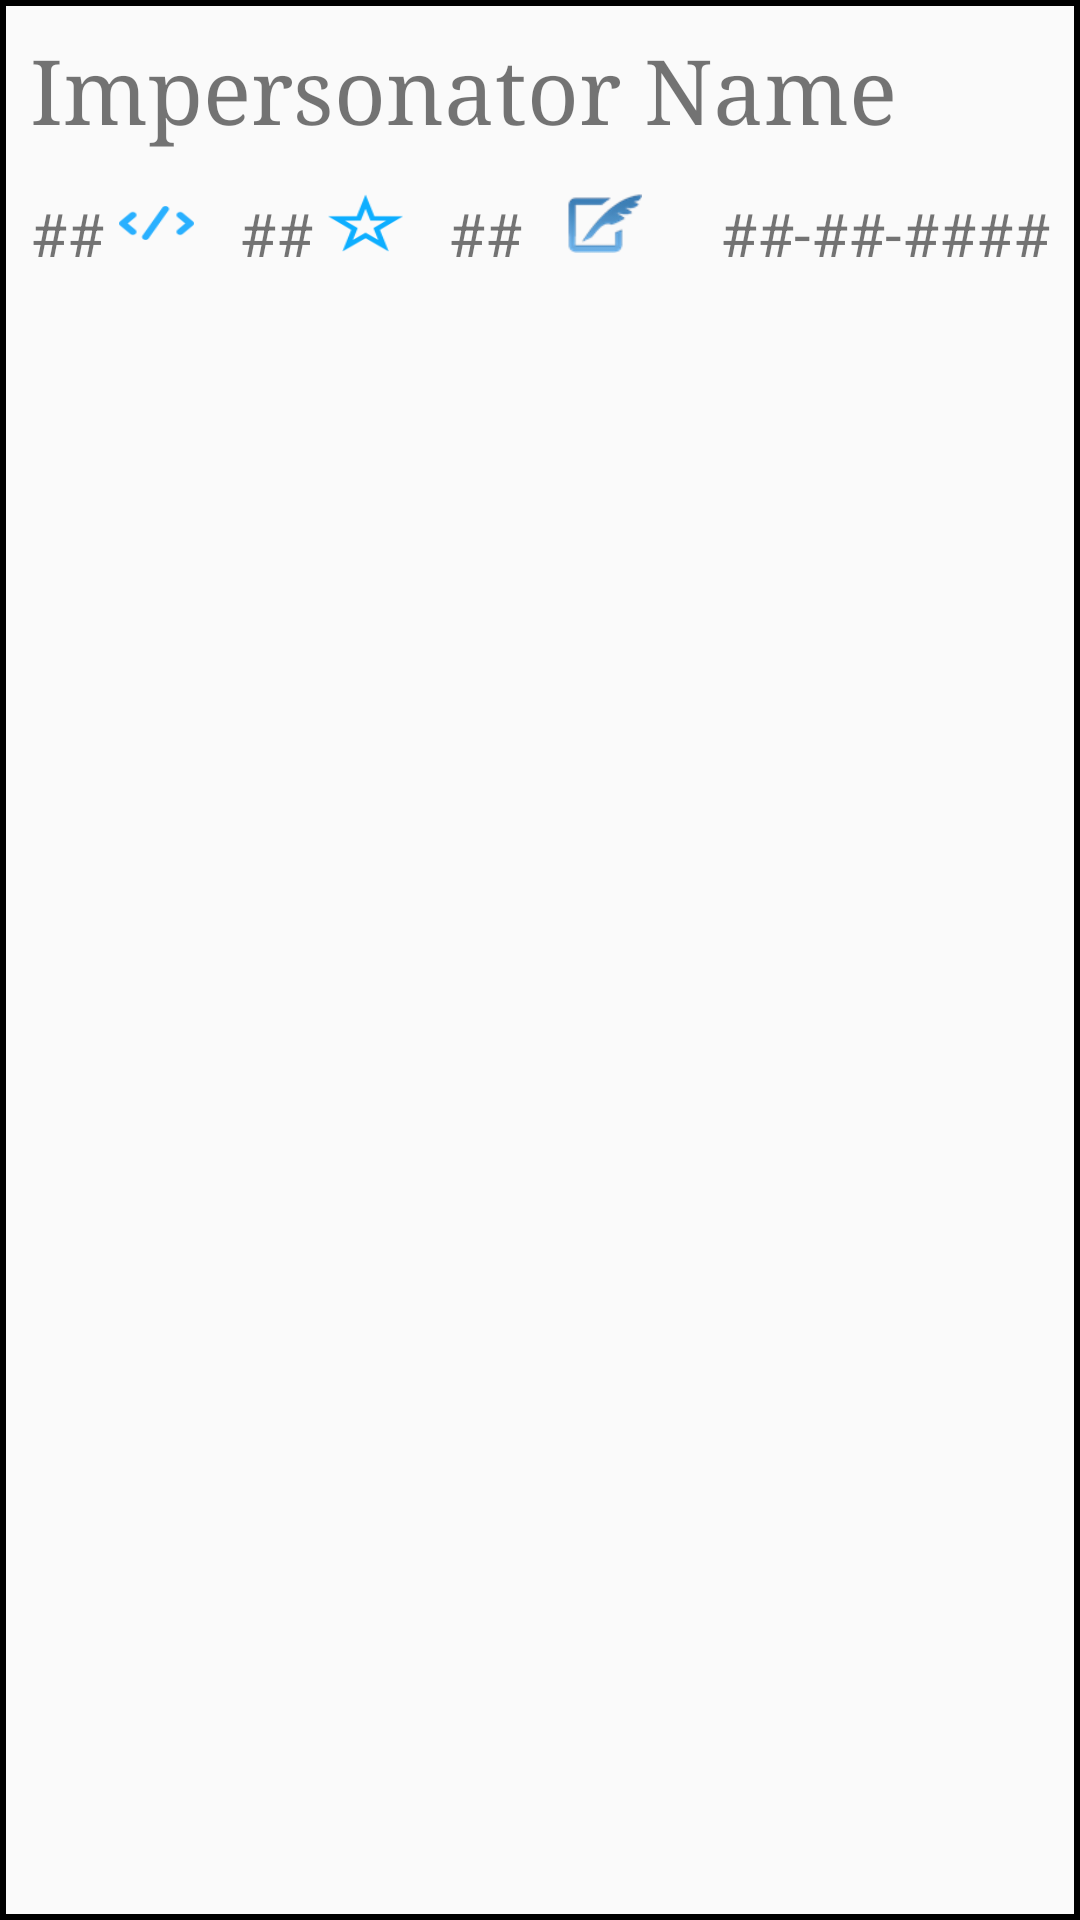

Where to tap for icons on this 1080px×1920px app screen, as [x,y]:
favorite: [365,223]
